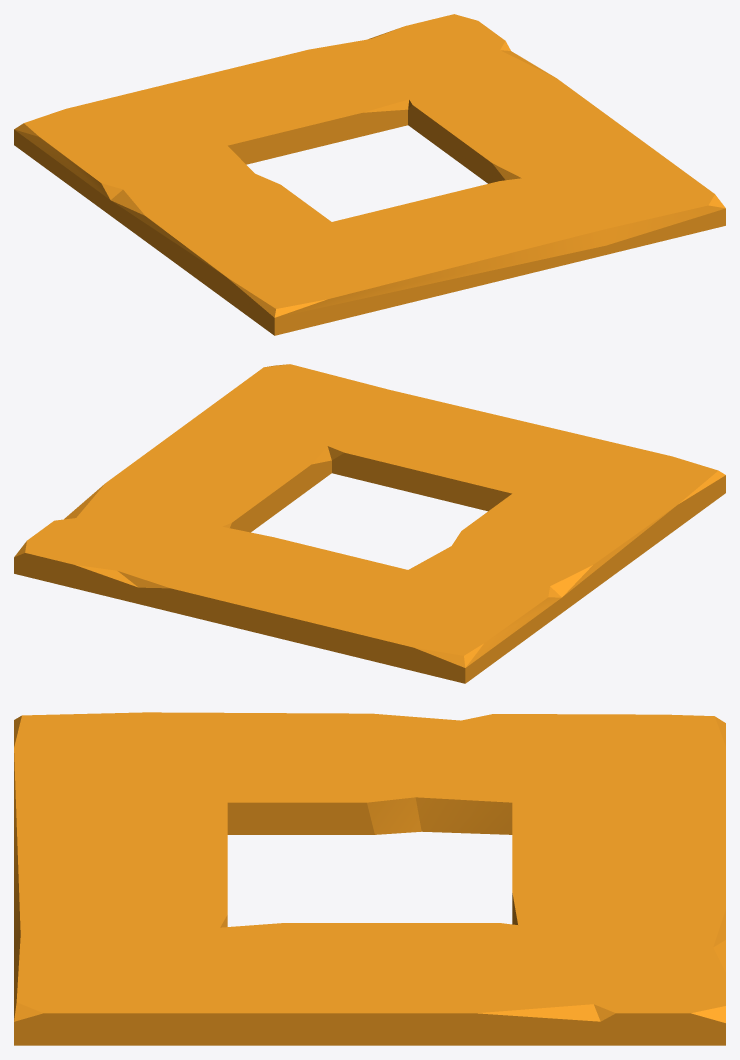
Rendered from SM_Buildings_FloorHole_2x2_01P.fbx.
3 renders of one model, top to bottom at view 1: azimuth 30°, elevation 25°; view 2: azimuth 150°, elevation 25°; view 3: azimuth 270°, elevation 25°, orthographic. The views are drawn at different scales.
Visible parts, largest first — view 1: SM_Buildings_FloorHole_2x2_01P; view 2: SM_Buildings_FloorHole_2x2_01P; view 3: SM_Buildings_FloorHole_2x2_01P.
Part boxes in pixels (x1=…): SM_Buildings_FloorHole_2x2_01P: x1=14, y1=14, x2=725, y2=335; SM_Buildings_FloorHole_2x2_01P: x1=14, y1=364, x2=725, y2=683; SM_Buildings_FloorHole_2x2_01P: x1=14, y1=712, x2=725, y2=1045.
Bounding box in the file's own units: 200 × 10 × 200.
